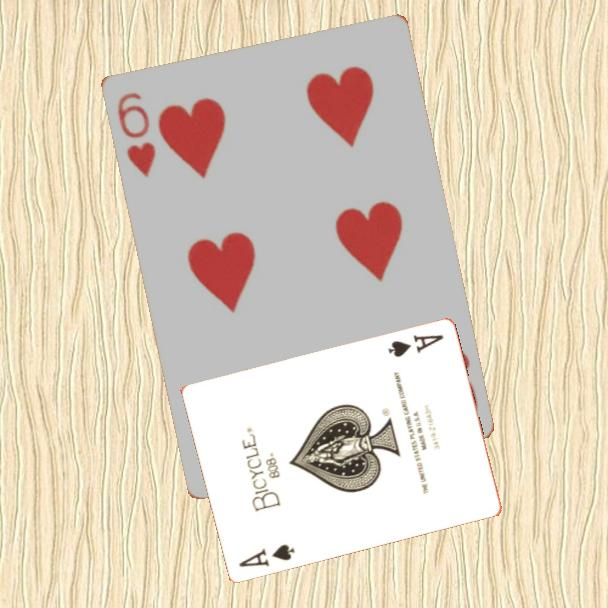h06: (113, 88, 158, 180)
s01: (235, 541, 298, 570), (384, 331, 446, 360)
